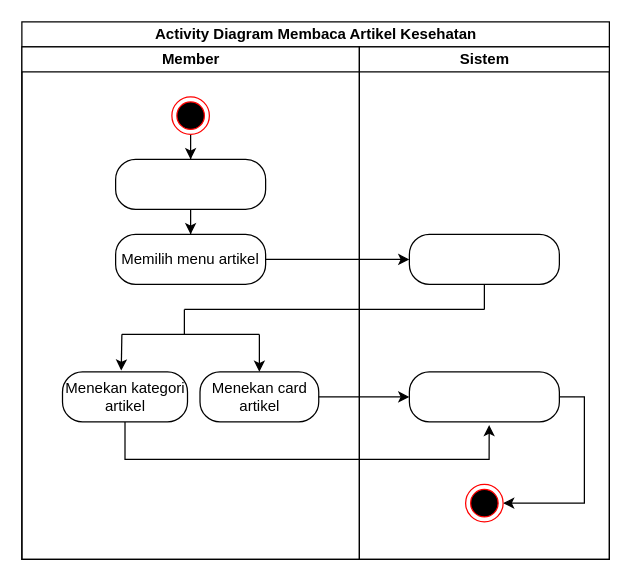
Some shapes in this 631 by 581 pixel diagram are drawn without their labels. The shapes that lost their labels are listed below. From the top down, each one's centre as x and y in pixels, then its label:
the point at 190,183: Landing Page
the point at 483,258: Menampilkan semua artikel
the point at 483,396: Menampilkan isi artikel
